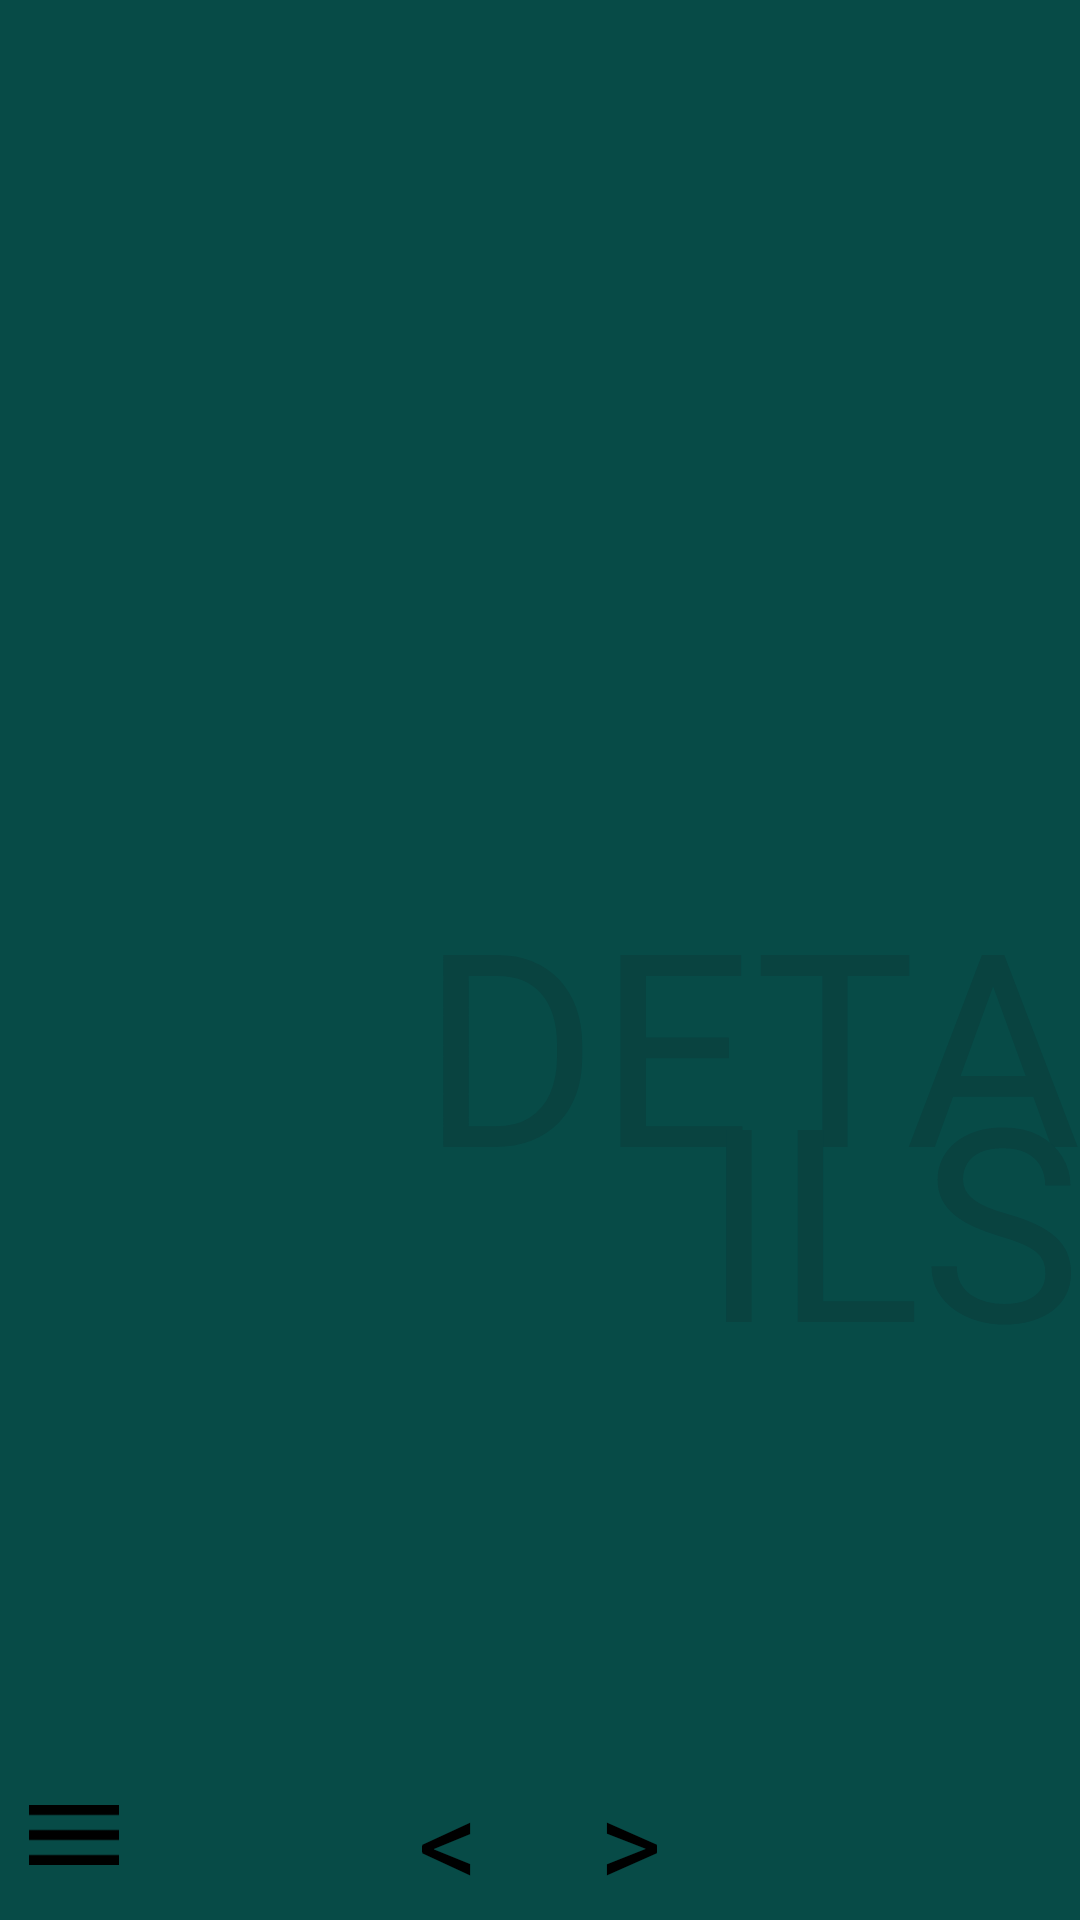

Named icons in this screenshot (1080*1920) and their bounding boxes, [x1=x1, y1=y1, x2=x2, y2=y2]:
opens menu: [x1=29, y1=1805, x2=119, y2=1865]
